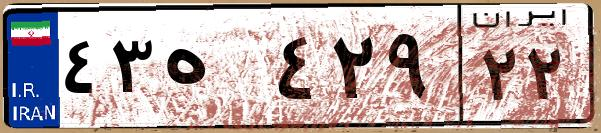2: (330, 28, 385, 110), (475, 38, 525, 113), (525, 38, 570, 115)
3: (110, 28, 158, 98)
4: (270, 28, 330, 110), (57, 26, 110, 100)
9: (385, 28, 445, 110)
ه: (158, 20, 270, 120)
